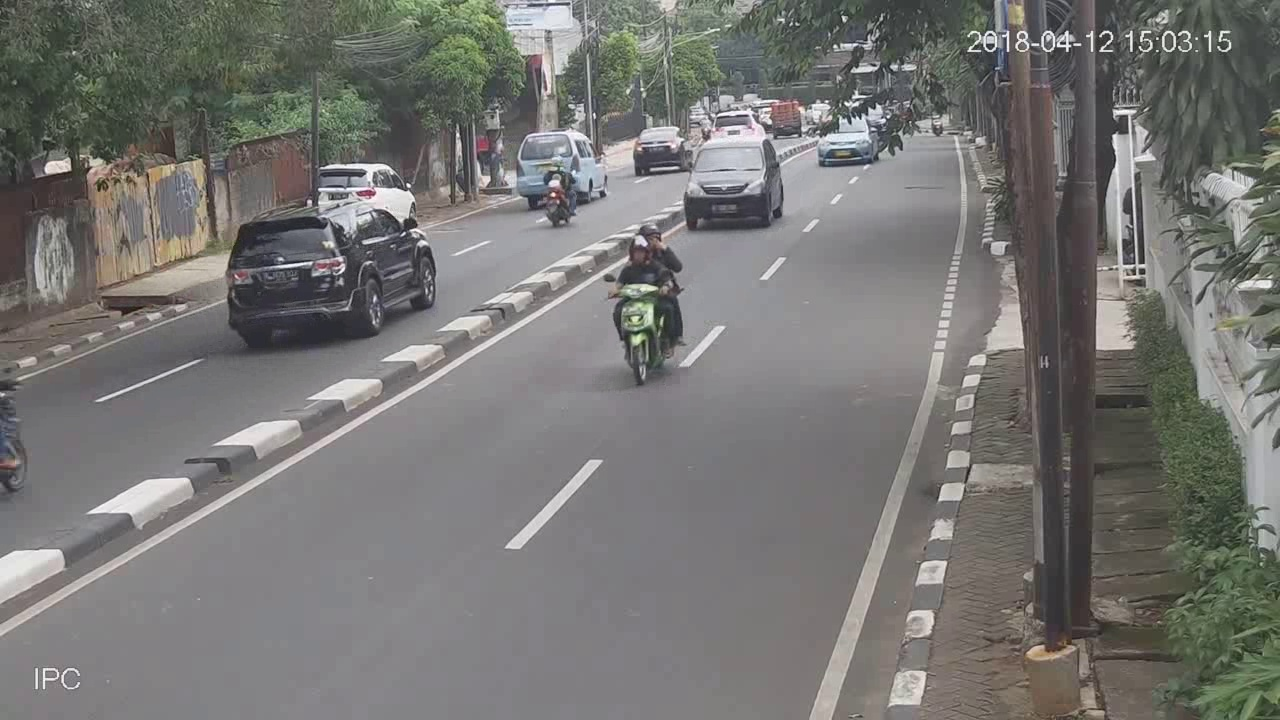car: (221, 200, 439, 342), (682, 133, 786, 235), (309, 161, 420, 224), (520, 130, 610, 205), (815, 116, 878, 166), (633, 124, 692, 175)
motorcycle: (603, 225, 697, 386), (540, 152, 577, 231)
